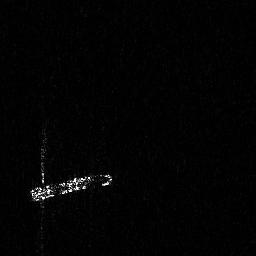ship: (30, 133, 116, 243)
